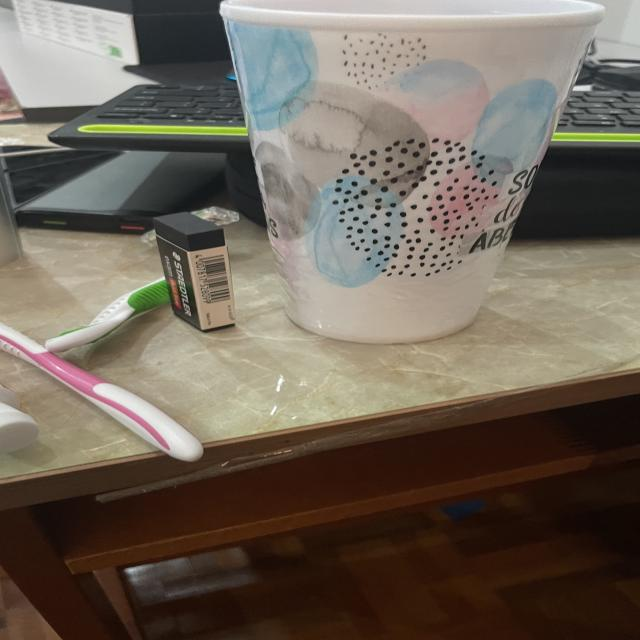eraser: (154, 213, 235, 332)
